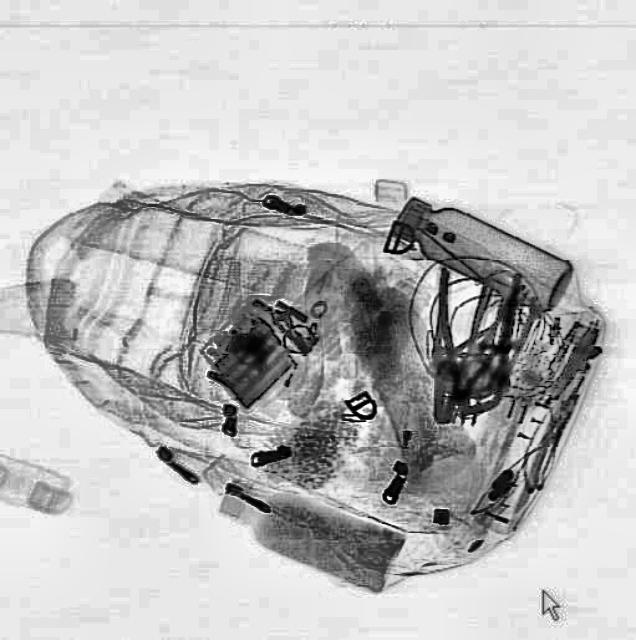Pliers: (414, 267, 494, 427), (432, 279, 504, 427)
